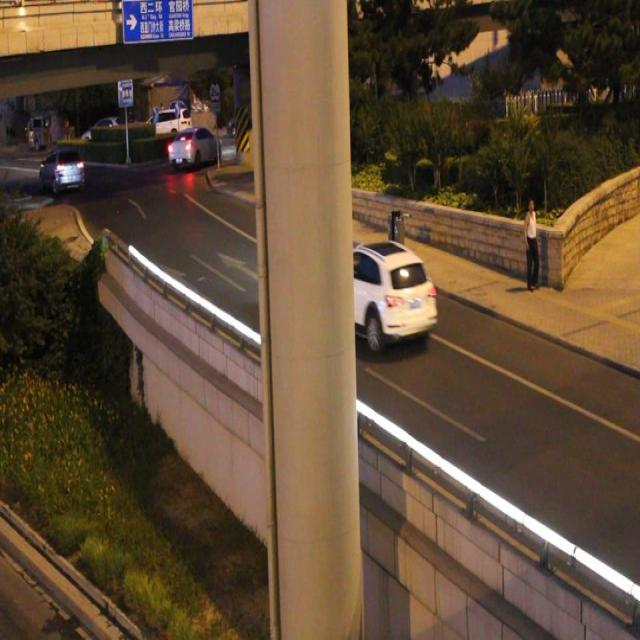car: (312, 238, 435, 350)
